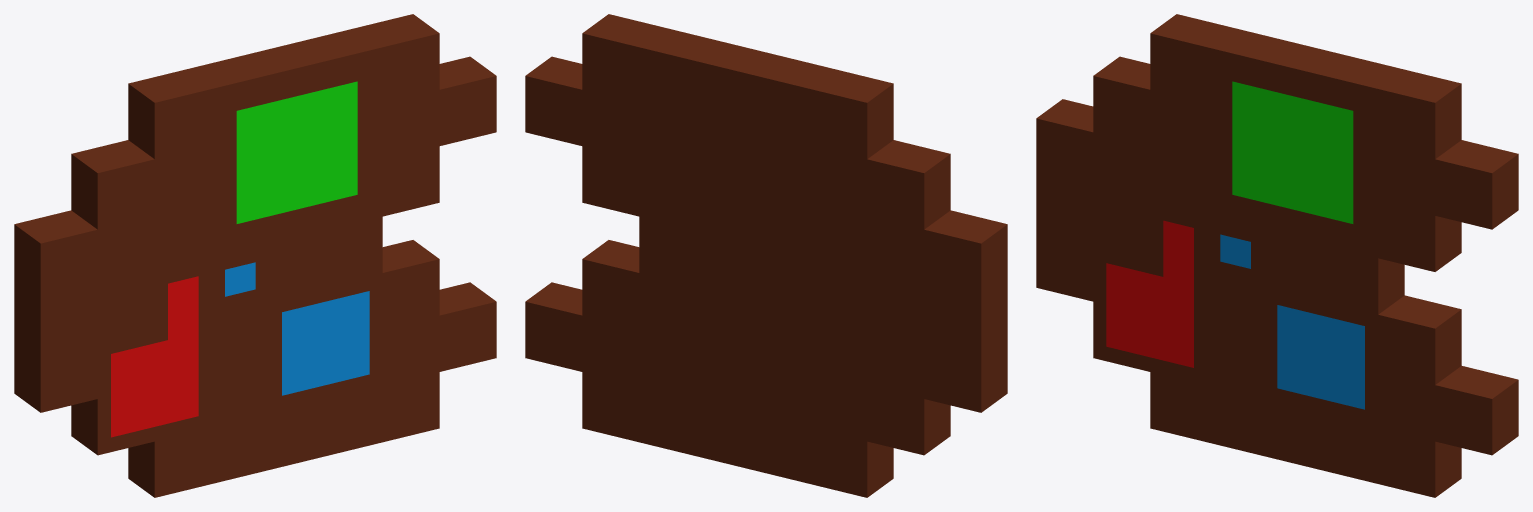
File: Palette.FBX
The picture shows the model from 3 angles, left to right: view 1: azimuth 30°, elevation 25°; view 2: azimuth 150°, elevation 25°; view 3: azimuth 330°, elevation 25°; orthographic projection.
Parts seen in each view (by area): view 1: PaletteHigh; view 2: PaletteHigh; view 3: PaletteHigh.
Part boxes in pixels (bbox=[...]): PaletteHigh: bbox=[14, 14, 496, 497]; PaletteHigh: bbox=[525, 14, 1007, 497]; PaletteHigh: bbox=[1036, 14, 1518, 497].
Size of the model in its own units: 55.47 by 45.92 by 5.58.
